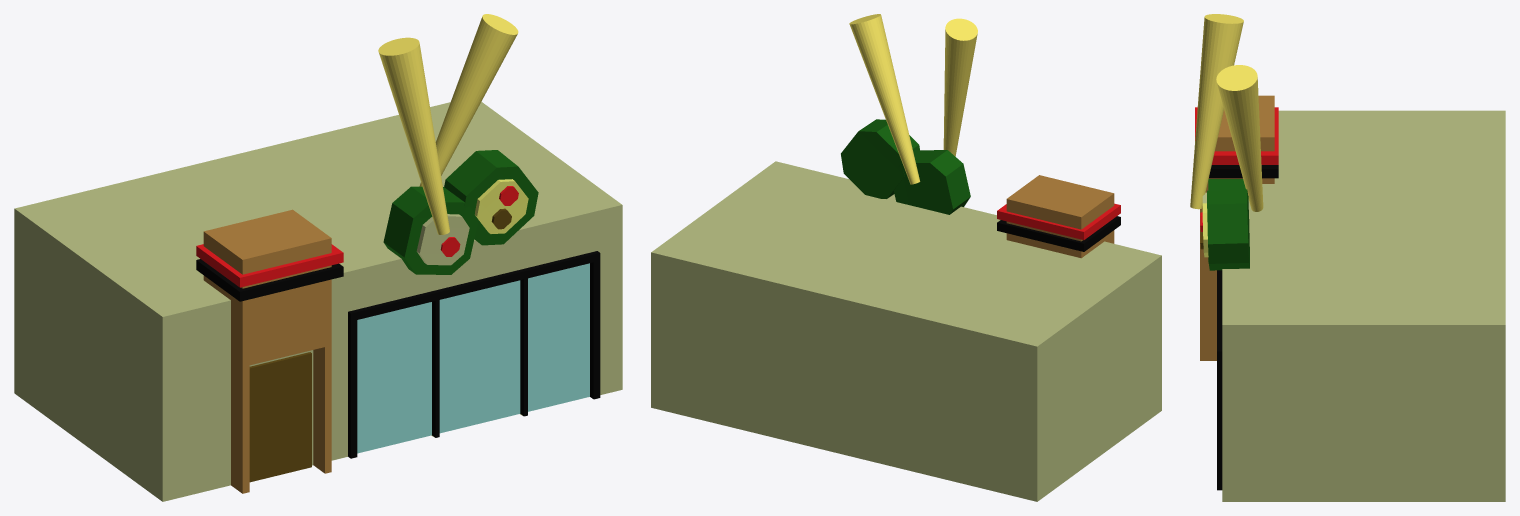
The model's file is Suchirestaurante1.glb.
3 views of the same model, side by side, from view 1: azimuth 30°, elevation 25°; view 2: azimuth 150°, elevation 25°; view 3: azimuth 270°, elevation 25° (orthographic). The views are drawn at different scales.
Parts seen in each view (by area): view 1: Cube, Cube.001, Cube.008, Cylinder.001, Cylinder, Cube.002, Cube.003, Cube.007, Cube.006, Cube.005, Cube.004; view 2: Cube, Cube.001, Cylinder, Cube.003, Cube.002, Cylinder.001, Cube.007, Cube.006; view 3: Cube, Cylinder.001, Cylinder, Cube.003, Cube.001, Cube.007, Cube.006, Cube.002.
Boxes of the visible parts, x1,y1,x2,y2 form: Cube: (14, 102, 622, 501); Cube.001: (203, 209, 331, 493); Cube.008: (249, 352, 311, 482); Cylinder.001: (378, 37, 449, 234); Cylinder: (419, 14, 518, 186); Cube.002: (383, 186, 478, 274); Cube.003: (444, 150, 538, 245); Cube.007: (196, 244, 343, 287); Cube.006: (196, 259, 343, 301); Cube.005: (416, 214, 469, 265); Cube.004: (474, 179, 528, 233); Cube: (651, 161, 1161, 501); Cube.001: (1006, 175, 1114, 258); Cylinder: (849, 14, 920, 184); Cube.003: (841, 119, 919, 198); Cube.002: (893, 150, 970, 214); Cylinder.001: (943, 18, 977, 156); Cube.007: (997, 203, 1120, 239); Cube.006: (997, 216, 1120, 251); Cube: (1217, 110, 1505, 501); Cylinder.001: (1190, 14, 1243, 209); Cylinder: (1216, 65, 1263, 211); Cube.003: (1207, 189, 1249, 270); Cube.001: (1200, 95, 1274, 360); Cube.007: (1195, 107, 1278, 164); Cube.006: (1209, 165, 1278, 178); Cube.002: (1208, 179, 1248, 261).
Bounding box in the file's own units: 439 × 366 × 273.
